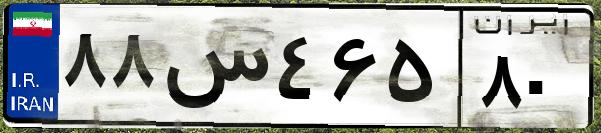0: (525, 38, 570, 115)
4: (270, 28, 330, 110)
5: (385, 28, 445, 110)
6: (330, 28, 385, 110)
8: (57, 26, 110, 100), (475, 38, 525, 113), (110, 28, 158, 98)
س: (158, 20, 270, 120)
